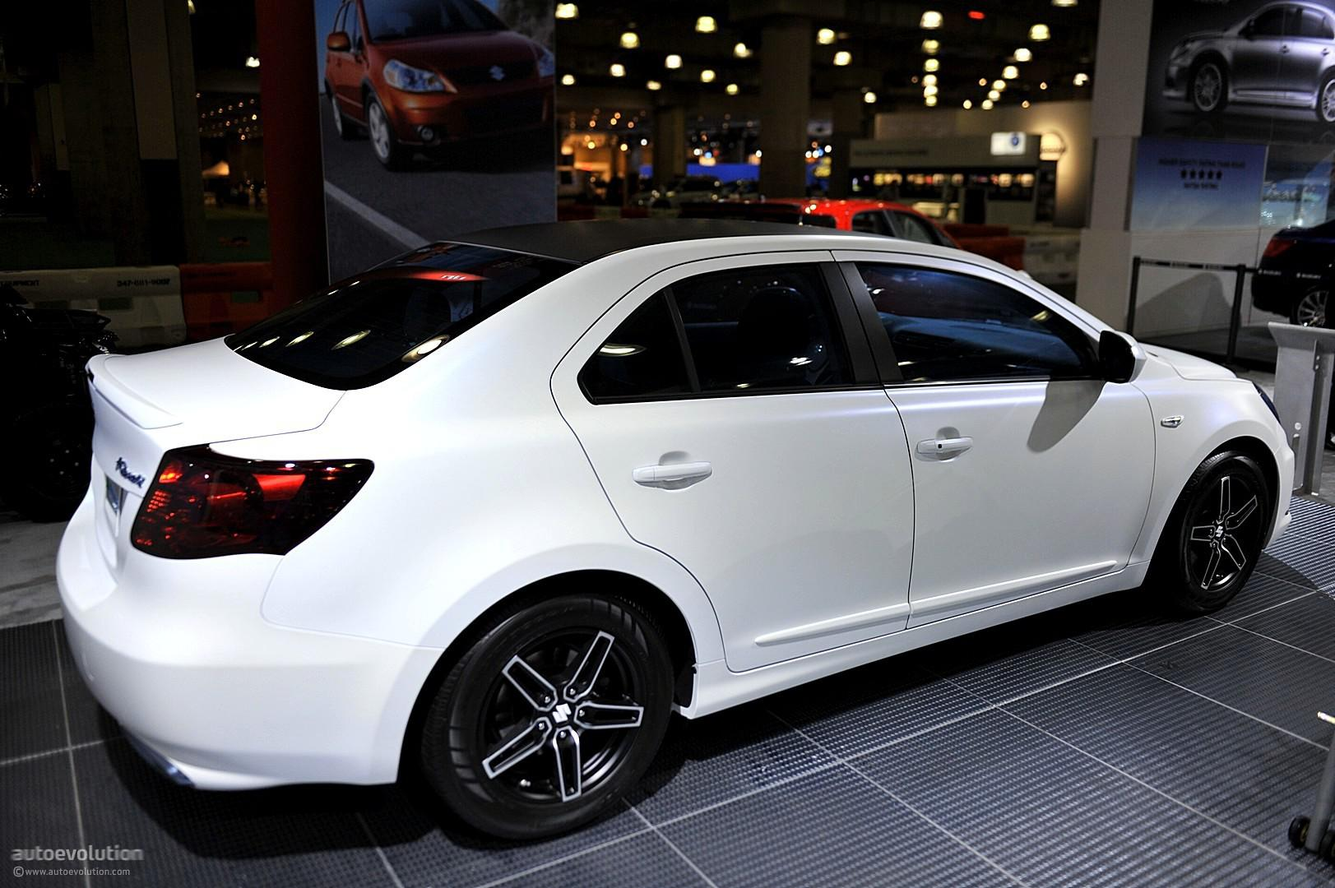Car: (31, 206, 1316, 874)
